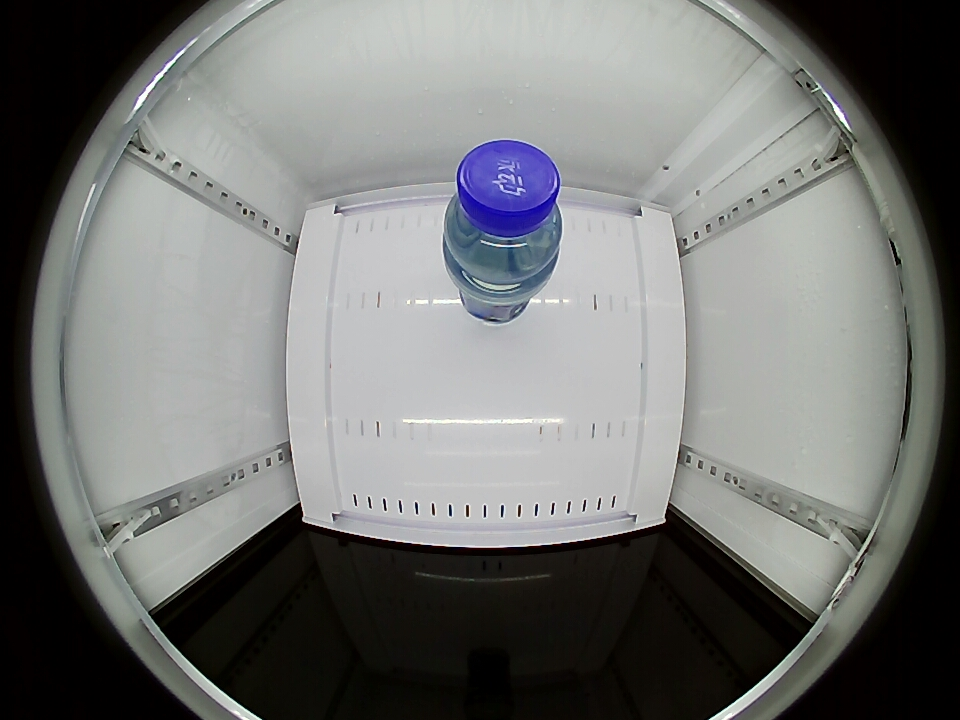maidong: (444, 139, 564, 283)
